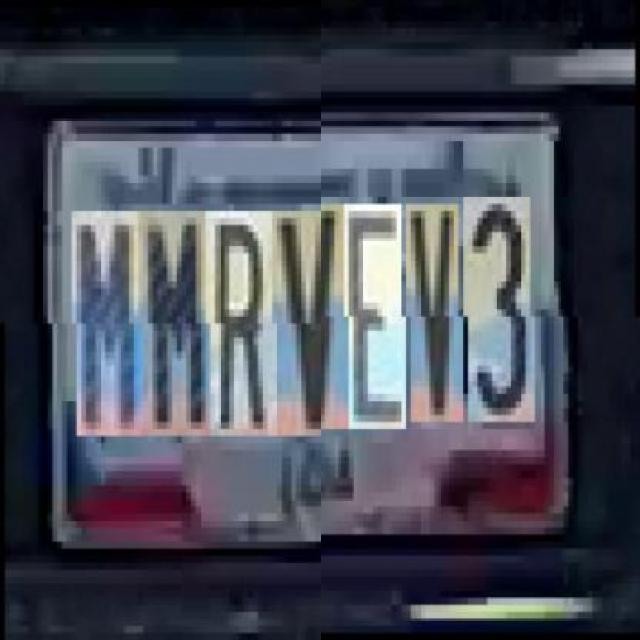3: (468, 204, 535, 428)
e: (348, 212, 407, 436)
m: (76, 212, 144, 436), (142, 212, 210, 436)
r: (210, 212, 278, 436)
v: (277, 212, 349, 436), (410, 211, 464, 429)
